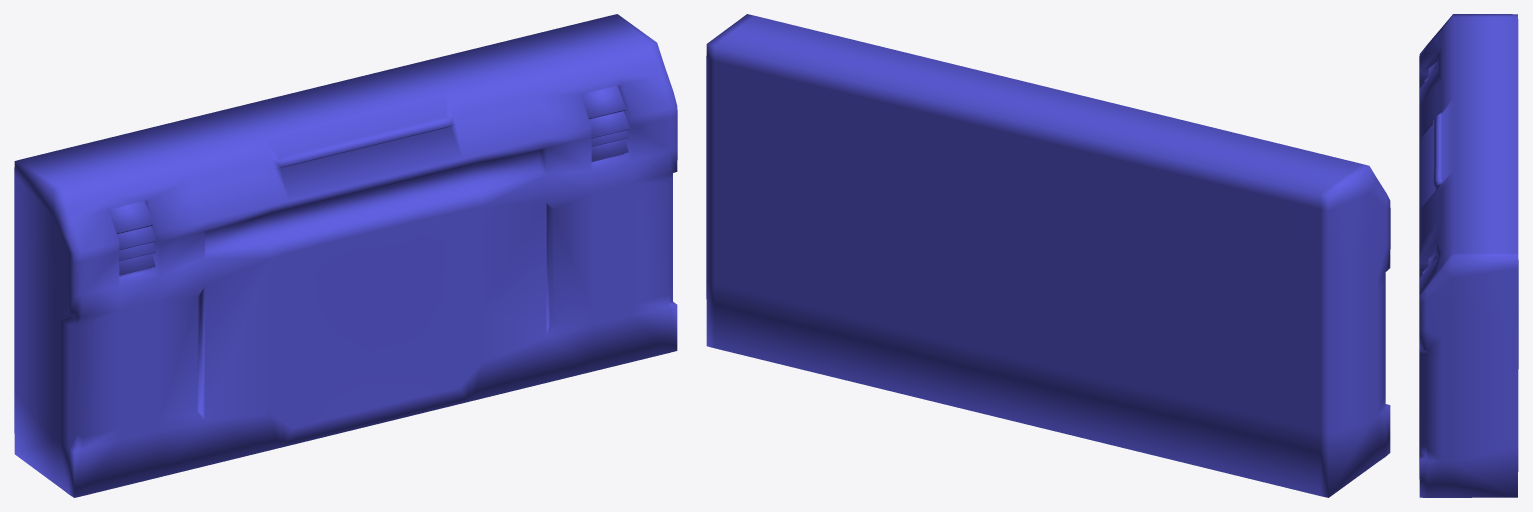
The model's file is PanelInferior.FBX.
3 renders of one model, left to right at view 1: azimuth 30°, elevation 25°; view 2: azimuth 150°, elevation 25°; view 3: azimuth 270°, elevation 25°, orthographic. The views are drawn at different scales.
Visible parts, largest first — view 1: PanelInferior_LP; view 2: PanelInferior_LP; view 3: PanelInferior_LP.
Part boxes in pixels (x1,y1,x2,y2): PanelInferior_LP: (14,14,677,497); PanelInferior_LP: (706,14,1390,497); PanelInferior_LP: (1419,14,1518,497).
Bounding box in the file's own units: 2.47 × 1.15 × 0.4277.
